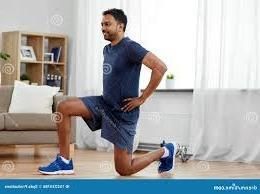Human: (53, 5, 179, 177)
